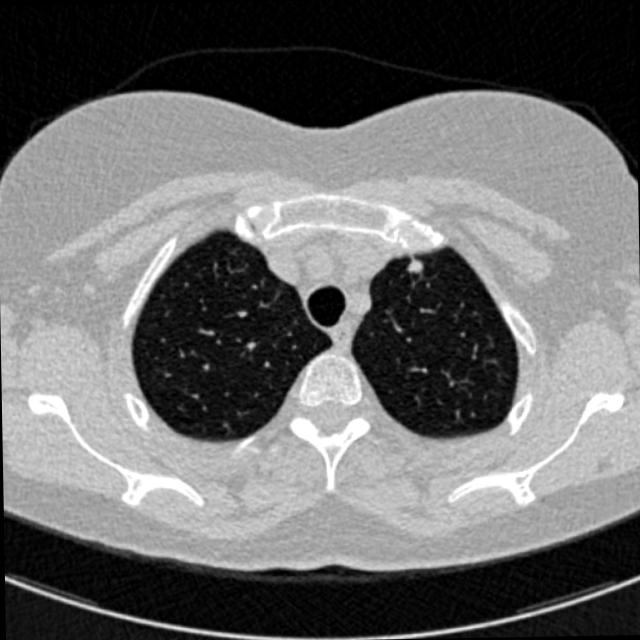nodule: (393, 244, 432, 283)
